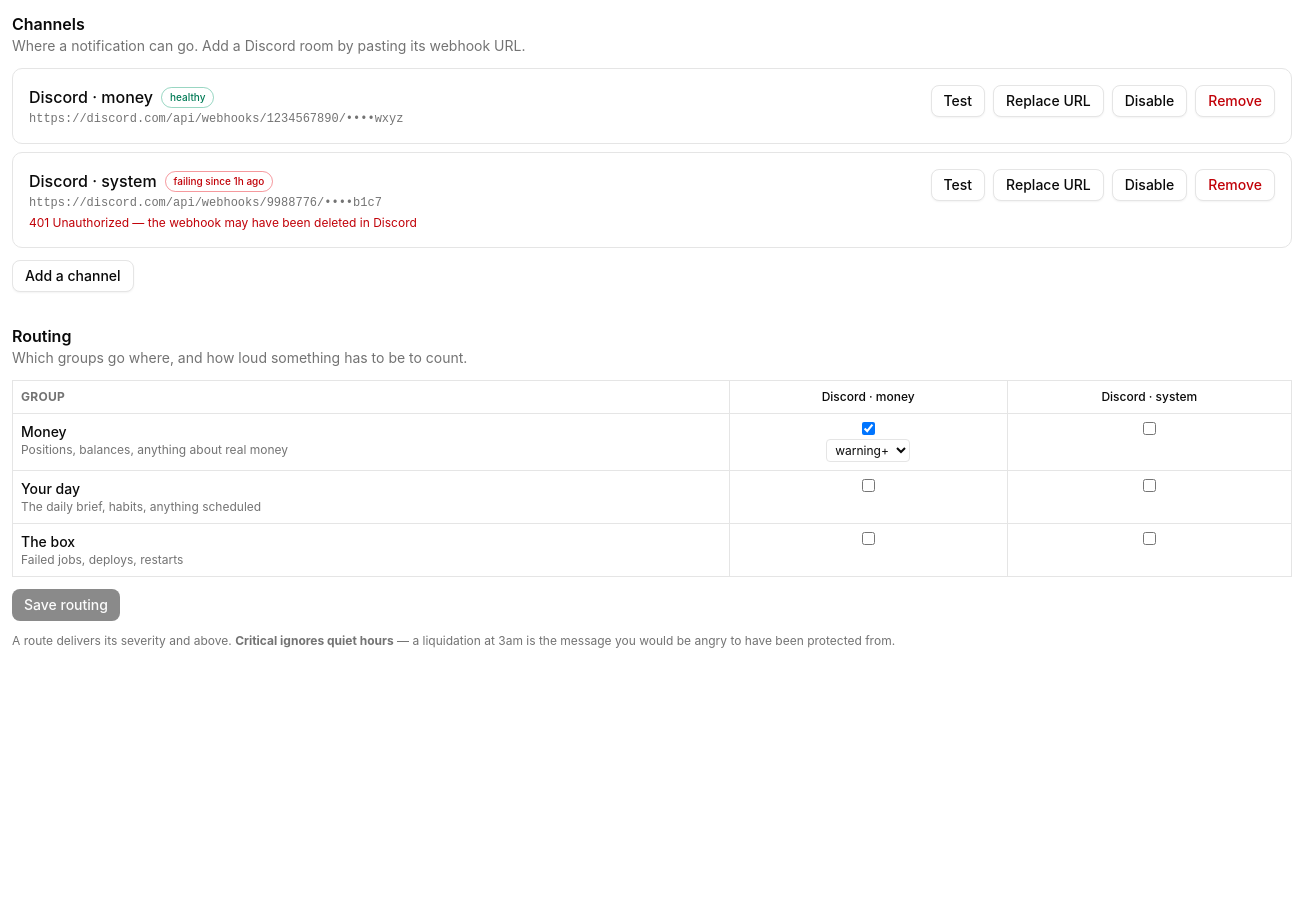
routing › offers no save until something changed
Expected: the button "Save routing" is disabled, [12,589,120,621]
Click the checkbox named "system to Discord · system": x=1149, y=538 [1143,532,1156,545]
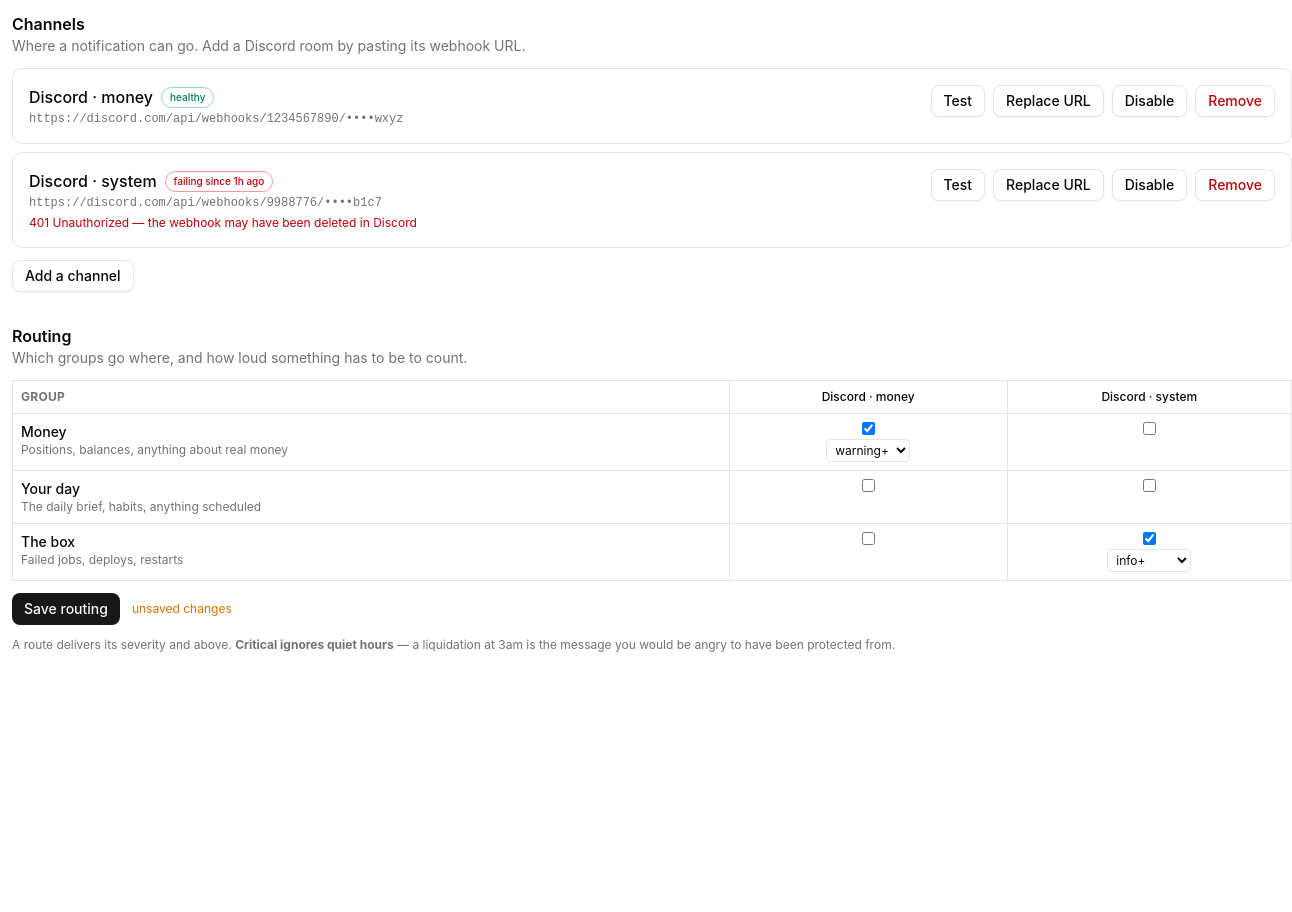
Now the button "Save routing" is enabled, box [12,593,120,625]
Now the text "unsaved changes" is shown, box [132,601,232,617]
